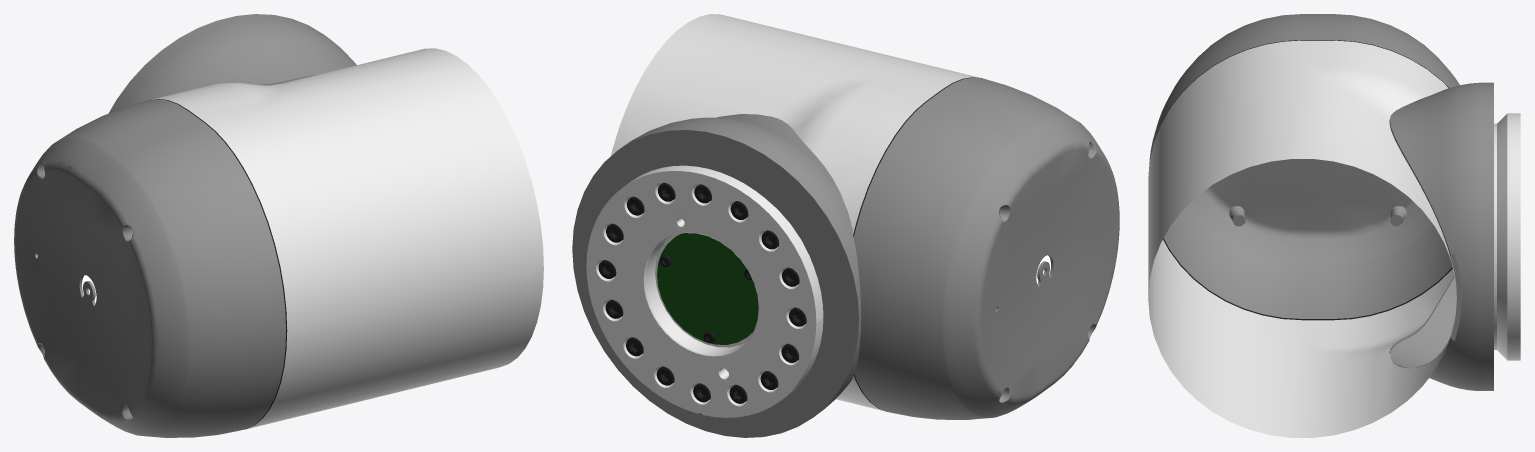
The model's file is D116-G-proximal.glb.
3 renders of one model, left to right at view 1: azimuth 30°, elevation 25°; view 2: azimuth 150°, elevation 25°; view 3: azimuth 270°, elevation 25°, orthographic. The views are drawn at different scales.
Visible parts, largest first — view 1: D116-G-proximal.001; view 2: D116-G-proximal.001; view 3: D116-G-proximal.001.
Part boxes in pixels (left/top/right/bottom): D116-G-proximal.001: left=14, top=14, right=543, bottom=437; D116-G-proximal.001: left=572, top=14, right=1119, bottom=437; D116-G-proximal.001: left=1148, top=14, right=1520, bottom=437.
Size of the model in its own units: 0.1548 by 0.116 by 0.14.
